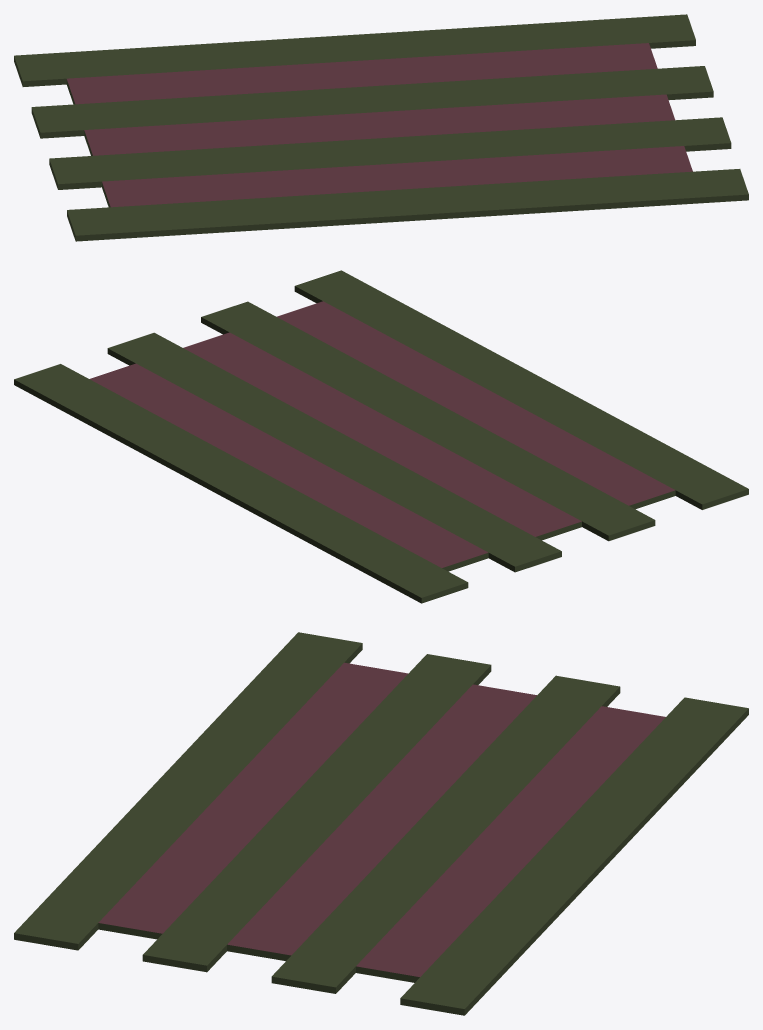
The model's file is carpet_green.fbx.
The picture shows the model from 3 angles, top to bottom: view 1: azimuth 30°, elevation 25°; view 2: azimuth 150°, elevation 25°; view 3: azimuth 270°, elevation 25°; orthographic projection. The views are drawn at different scales.
Visible parts, largest first — view 1: Plane.003; view 2: Plane.003; view 3: Plane.003.
Part boxes in pixels (x1,y1,x2,y2): Plane.003: (14, 14, 748, 241); Plane.003: (14, 270, 748, 603); Plane.003: (14, 632, 748, 1015).
Bounding box in the file's own units: 864 × 7.07 × 712.
